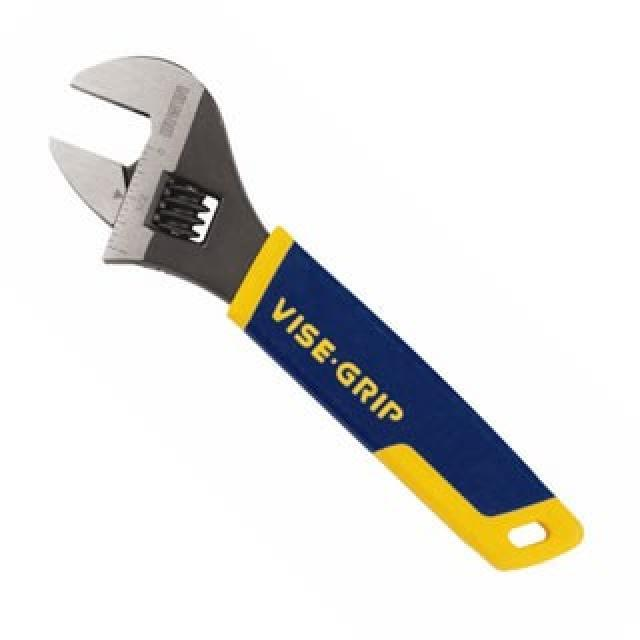wrench: (41, 41, 592, 583)
